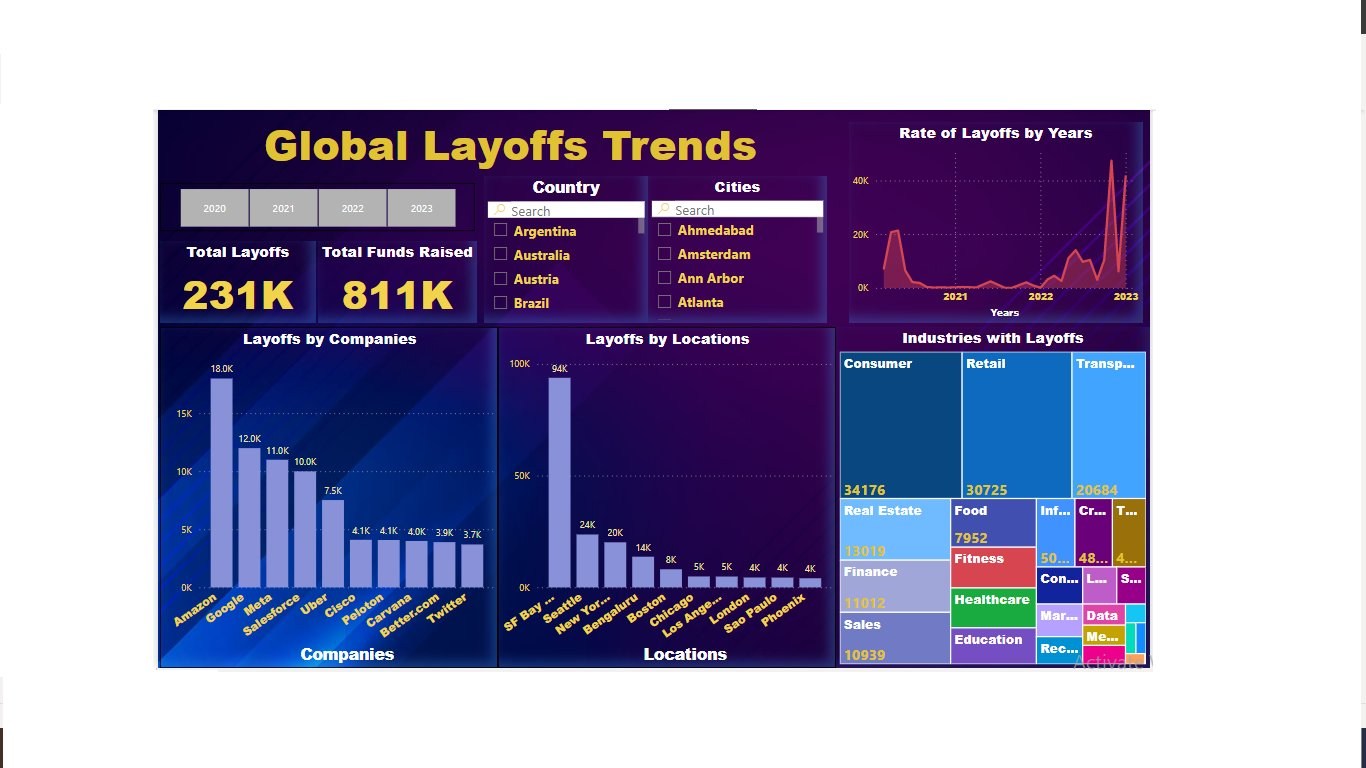

What the dashboard file says about the page in this screenshot:
{"tool":"powerbi","page":{"name":"Page 1","canvas":[1280,720],"ordinal":0},"visuals":[{"type":"clusteredColumnChart","title":"Layoffs by Companies","fields":{"Category":["layoffs.company"],"Y":["Sum(layoffs.total_laid_off)"]},"box":[2.6,280,436.1,440],"z":0},{"type":"slicer","title":"Year","fields":{"Values":["layoffs.date.Variation.Date Hierarchy.Year"]},"box":[2.6,94.2,406.5,61.9],"z":1000},{"type":"card","title":"Total Layoffs","fields":{"Values":["Sum(layoffs.total_laid_off)"]},"box":[2.6,169,201.3,105.8],"z":2000},{"type":"areaChart","title":"Rate of Layoffs by Years","fields":{"Category":["layoffs.date.Variation.Date Hierarchy.Year","layoffs.date.Variation.Date Hierarchy.Month"],"Y":["Sum(layoffs.total_laid_off)"]},"box":[891.6,15.5,379.4,259.4],"z":3000},{"type":"card","title":"Total Funds Raised","fields":{"Values":["Sum(layoffs.funds_raised)"]},"box":[206.5,169,205.2,105.8],"z":4000},{"type":"slicer","title":"Cities ","fields":{"Values":["layoffs.location"]},"box":[632.3,85.2,231,189.7],"z":5000},{"type":"slicer","title":"Country","fields":{"Values":["layoffs.country"]},"box":[420.6,85.2,211.6,189.7],"z":6000},{"type":"treemap","title":"Industries with Layoffs","fields":{"Group":["layoffs.industry"],"Values":["Sum(layoffs.total_laid_off)"]},"box":[874.8,280,405.2,440],"z":7000},{"type":"clusteredColumnChart","title":"Layoffs by Locations","fields":{"Category":["layoffs.location"],"Y":["Sum(layoffs.total_laid_off)"]},"box":[438.7,280,436.1,440],"z":8000},{"type":"textbox","box":[34.8,0,840,94.2],"z":9000}]}

Visuals, with their boxes in screenshot pixels (x1, y1, x2, y2), scaled from the page's 1280x720 canvas onto the 1366x768 screenshot:
"Layoffs by Companies" clusteredColumnChart: x1=3, y1=299, x2=468, y2=767
"Year" slicer: x1=3, y1=100, x2=437, y2=167
"Total Layoffs" card: x1=3, y1=180, x2=218, y2=293
"Rate of Layoffs by Years" areaChart: x1=952, y1=17, x2=1356, y2=293
"Total Funds Raised" card: x1=220, y1=180, x2=439, y2=293
"Cities " slicer: x1=675, y1=91, x2=921, y2=293
"Country" slicer: x1=449, y1=91, x2=675, y2=293
"Industries with Layoffs" treemap: x1=934, y1=299, x2=1365, y2=767
"Layoffs by Locations" clusteredColumnChart: x1=468, y1=299, x2=934, y2=767
textbox: x1=37, y1=0, x2=934, y2=100
